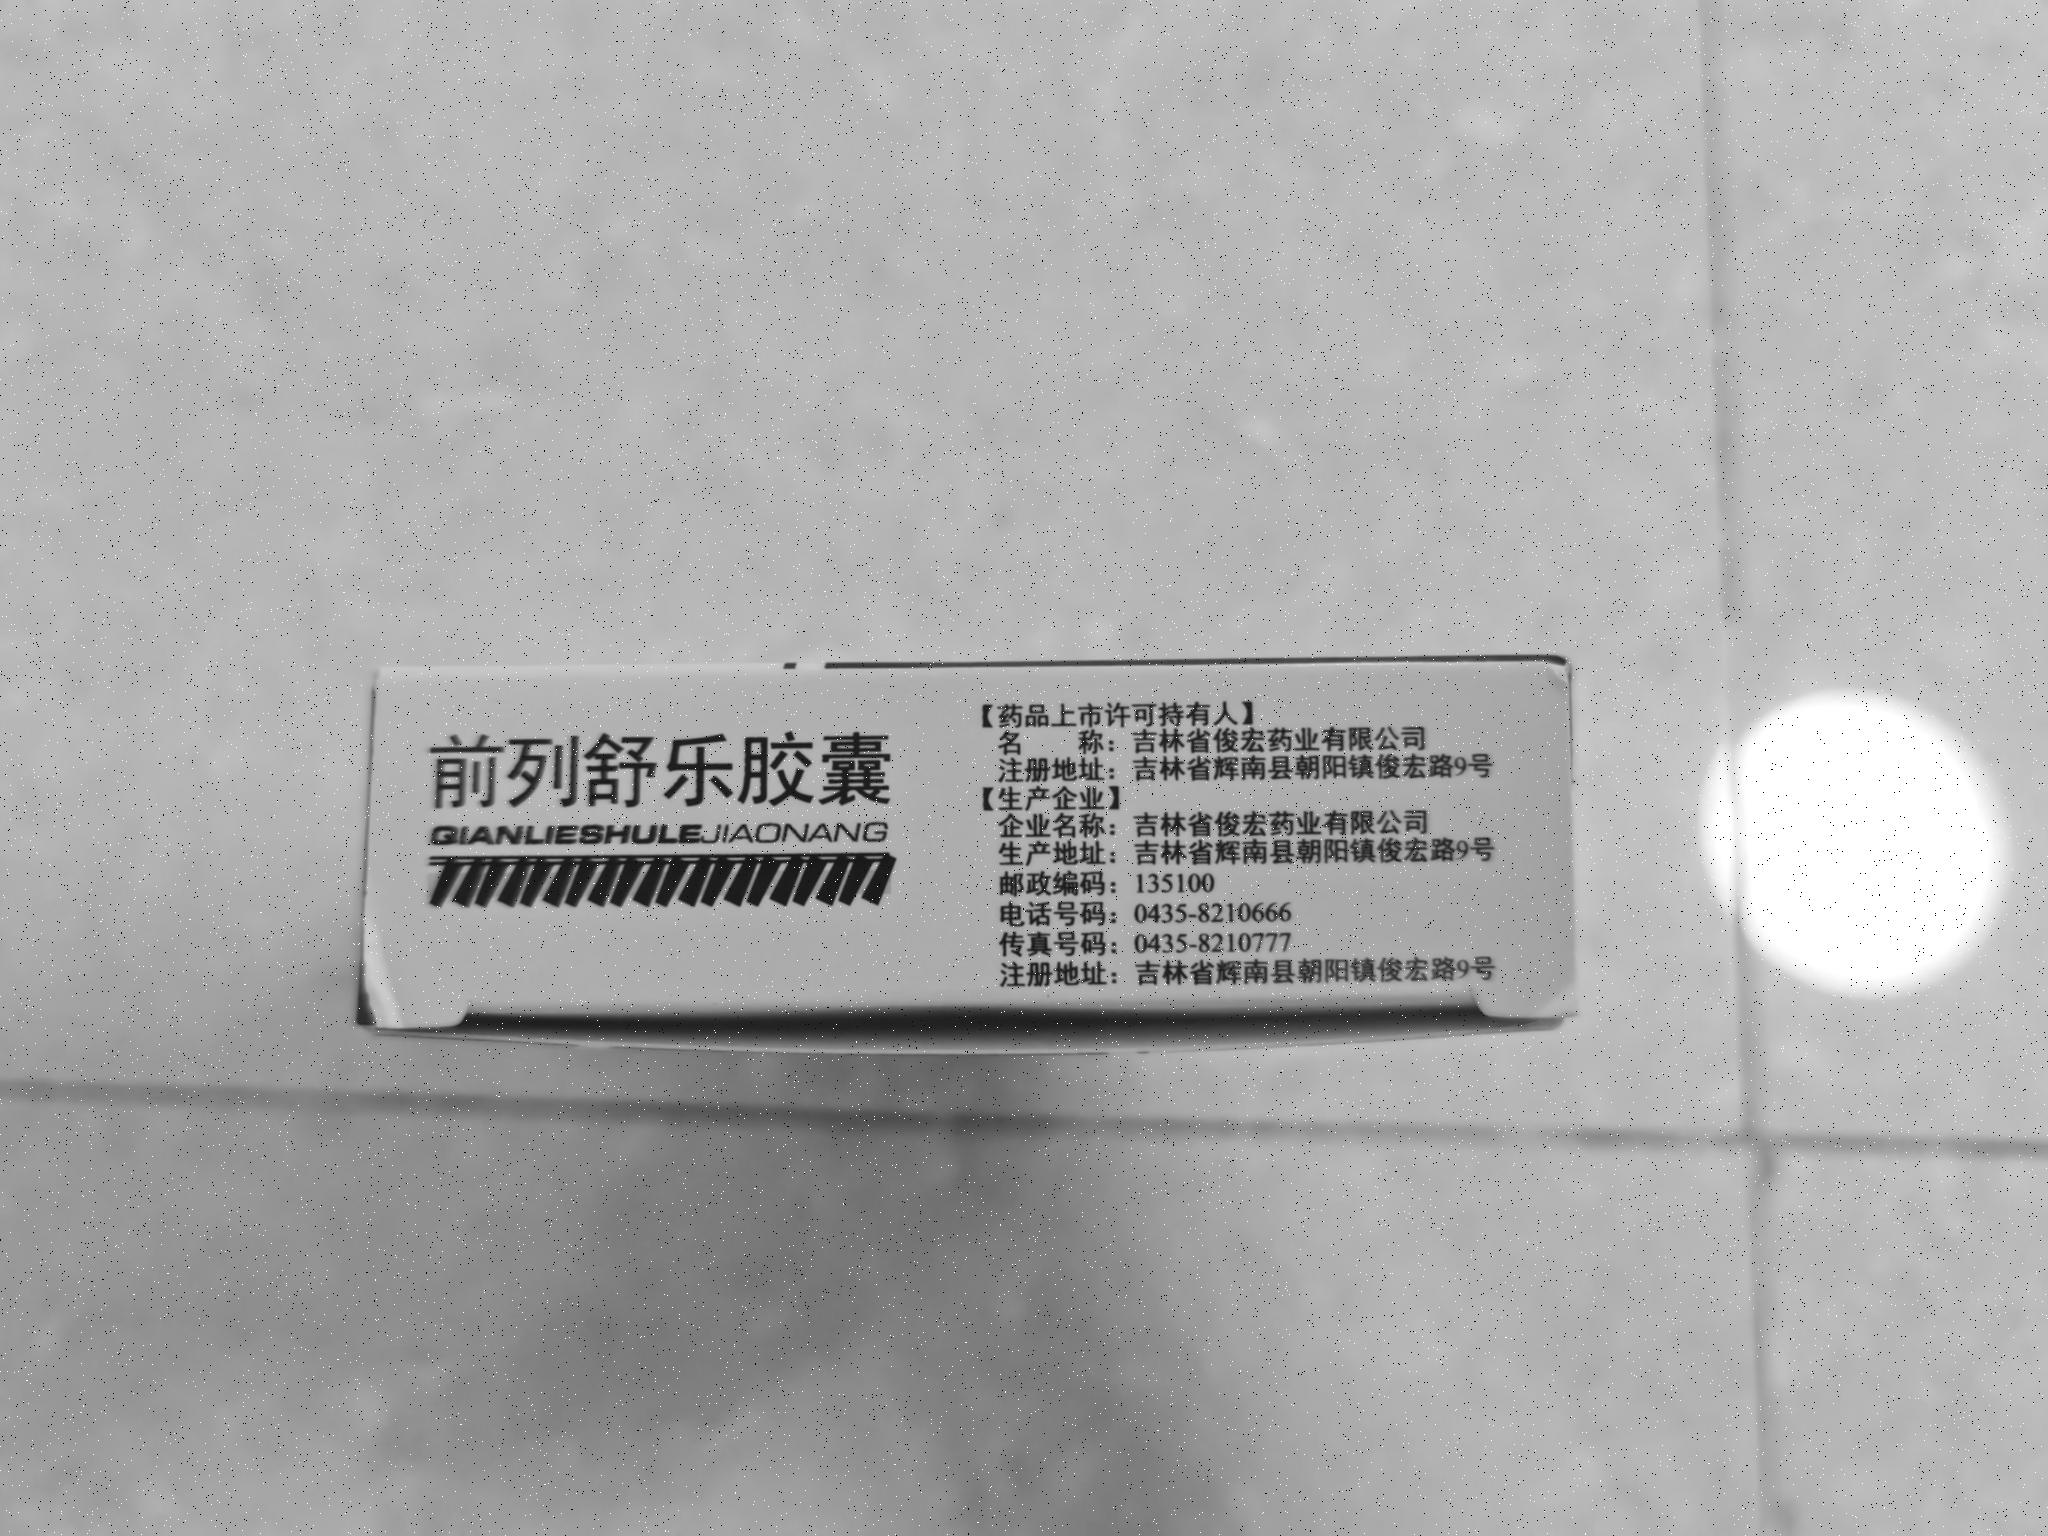Medicine2: (337, 632, 1605, 1065)
